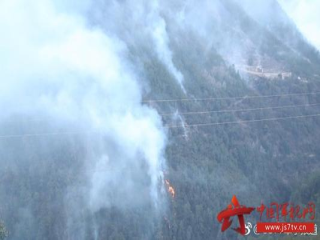fire: (164, 177, 179, 203)
smoke: (8, 8, 165, 220), (144, 12, 189, 97)
